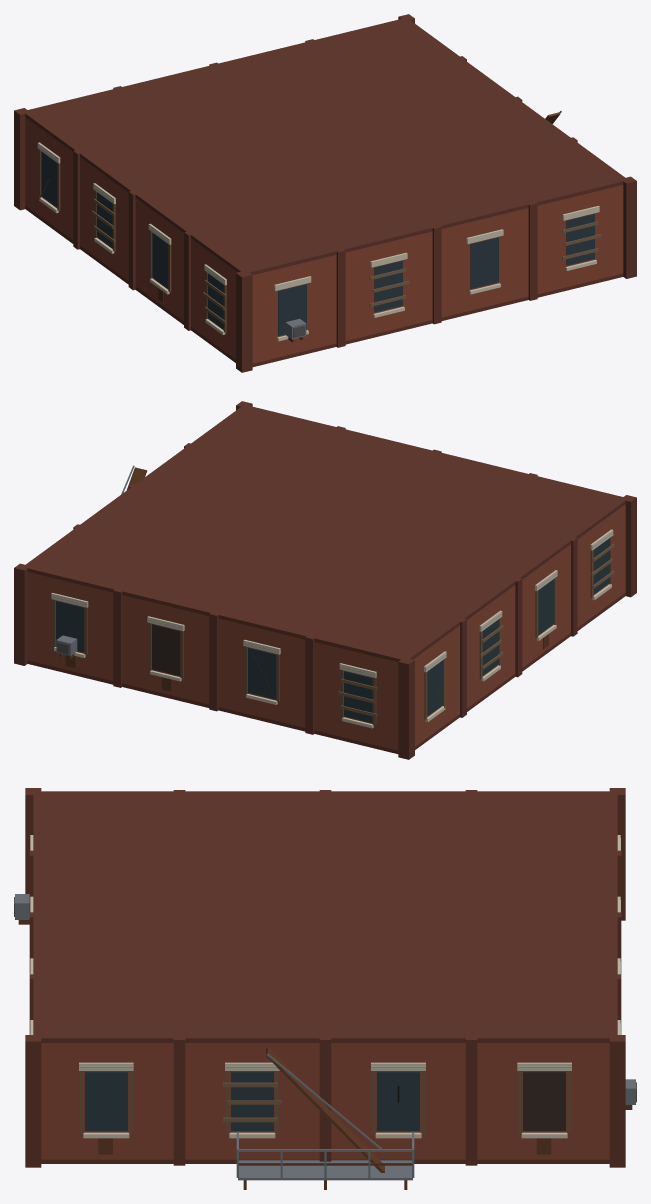
Rendered from tw_brick_16_floor_b.glb.
3 views of the same model, one above another, from view 1: azimuth 30°, elevation 25°; view 2: azimuth 150°, elevation 25°; view 3: azimuth 270°, elevation 25° (orthographic). The views are drawn at different scales.
Visible parts, largest first — view 1: tw_brick_16_floor_b; view 2: tw_brick_16_floor_b; view 3: tw_brick_16_floor_b.
Boxes of the visible parts, bbox=[...] form: tw_brick_16_floor_b: bbox=[14, 14, 636, 372]; tw_brick_16_floor_b: bbox=[14, 401, 636, 759]; tw_brick_16_floor_b: bbox=[14, 788, 636, 1189].
Size of what is drawn, in the model's own units: 17.61 by 4.07 by 17.06.
2 materials, 2 textured.
